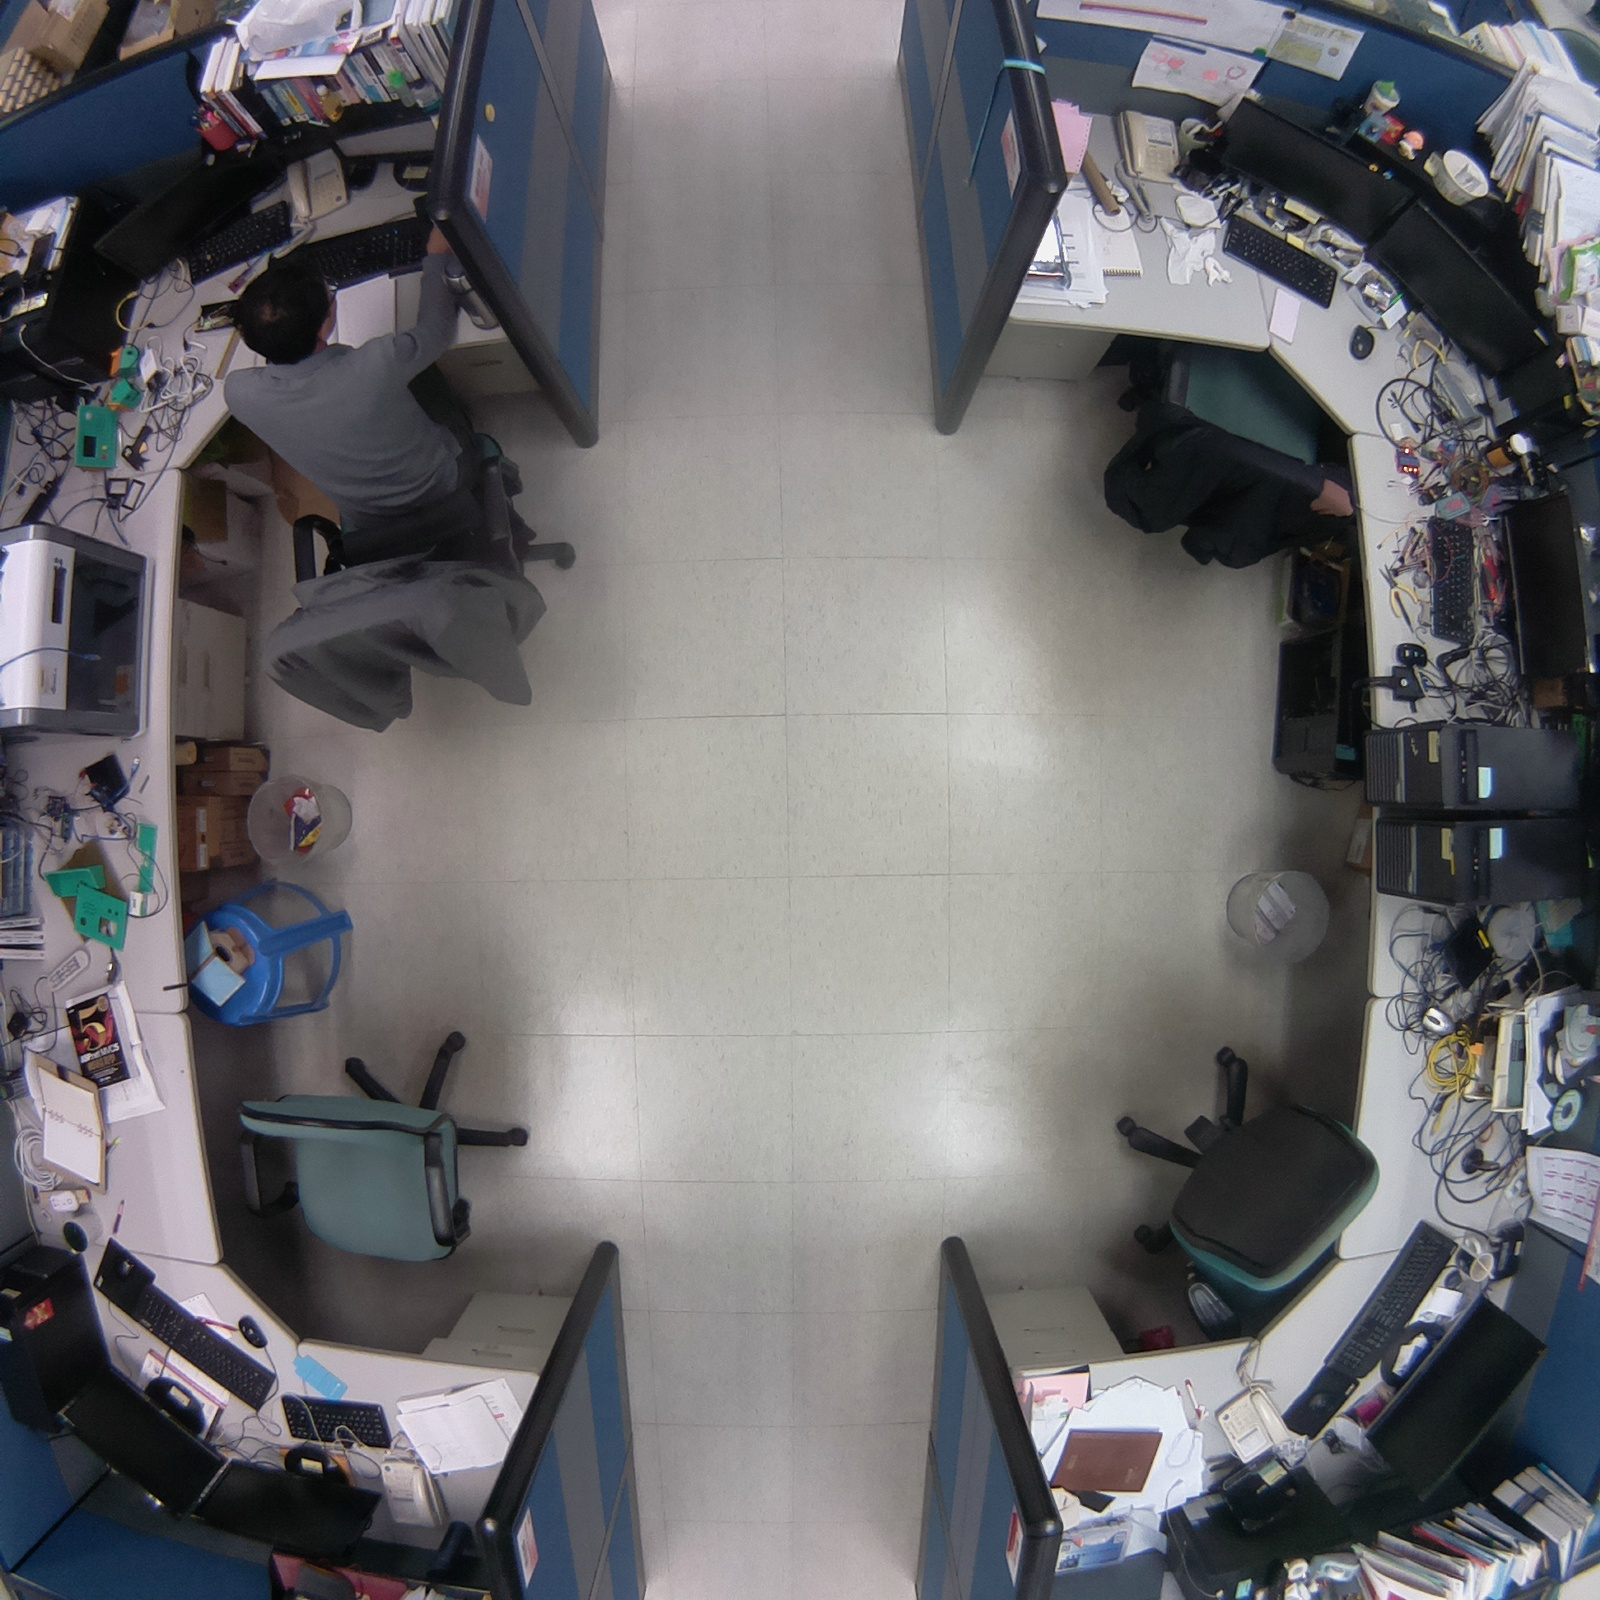chair: (212, 993, 558, 1288), (1096, 1032, 1386, 1342), (1086, 309, 1370, 583)
head: (223, 259, 344, 365)
sitting: (191, 214, 594, 752)
